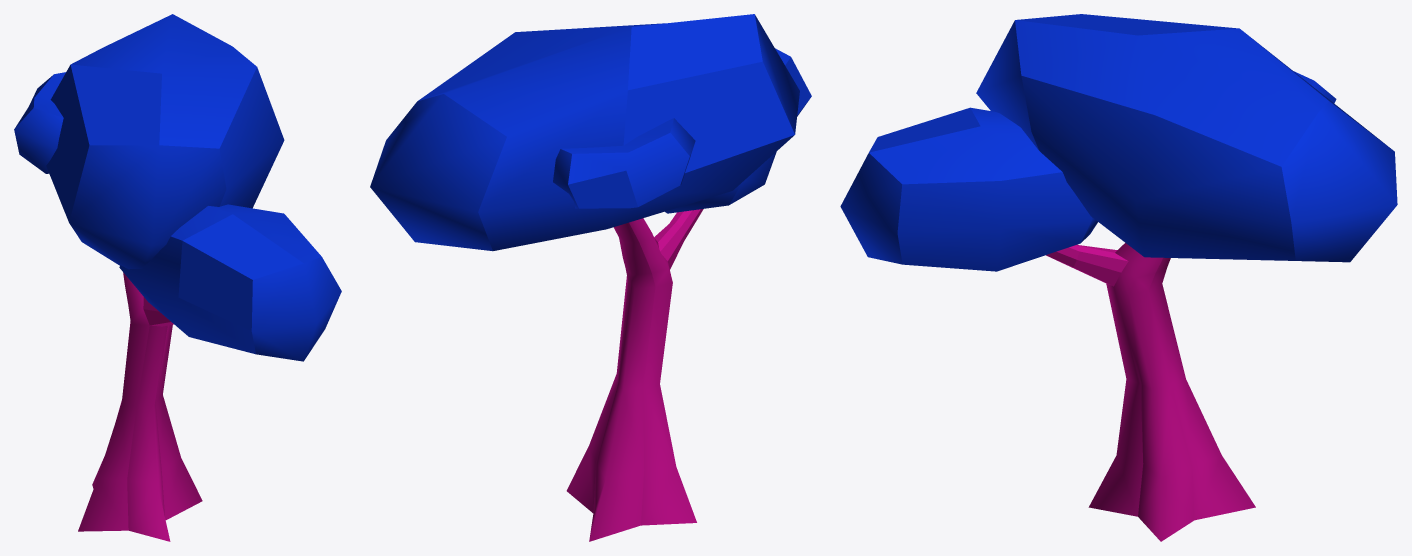
Rendered from arbre.fbx.
3 renders of one model, left to right at view 1: azimuth 30°, elevation 25°; view 2: azimuth 150°, elevation 25°; view 3: azimuth 270°, elevation 25°, orthographic. The views are drawn at different scales.
Visible parts, largest first — view 1: Feuillage02, Feuillage01, Tron01, Feuillage03; view 2: Feuillage02, Tron01, Feuillage03, Feuillage01; view 3: Feuillage02, Feuillage01, Tron01.
Part boxes in pixels (left/top/right/bottom): Feuillage02: left=46, top=14, right=284, bottom=269; Feuillage01: left=119, top=204, right=341, bottom=361; Tron01: left=78, top=272, right=202, bottom=541; Feuillage03: left=14, top=72, right=65, bottom=173; Feuillage02: left=370, top=14, right=799, bottom=251; Tron01: left=566, top=209, right=703, bottom=541; Feuillage03: left=553, top=118, right=695, bottom=208; Feuillage01: left=665, top=48, right=811, bottom=213; Feuillage02: left=976, top=14, right=1397, bottom=262; Feuillage01: left=840, top=107, right=1097, bottom=271; Tron01: left=1046, top=243, right=1255, bottom=541.
Size of the model in its own units: 19.01 by 28.3 by 29.8.
